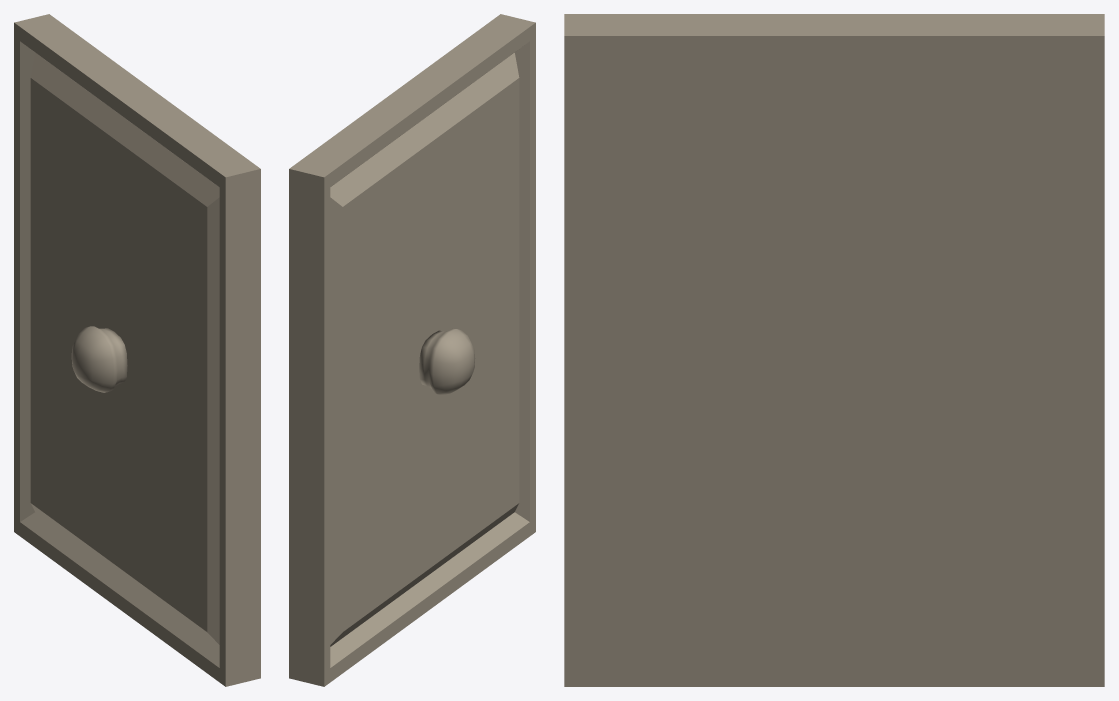
Rendered from Cupboard_02_Door_R_Lod0.fbx.
3 renders of one model, left to right at view 1: azimuth 30°, elevation 25°; view 2: azimuth 150°, elevation 25°; view 3: azimuth 270°, elevation 25°, orthographic. The views are drawn at different scales.
Parts seen in each view (by area): view 1: Cupboard_02_Door_R_Lod0; view 2: Cupboard_02_Door_R_Lod0; view 3: Cupboard_02_Door_R_Lod0.
Boxes of the visible parts, x1,y1,x2,y2 form: Cupboard_02_Door_R_Lod0: (14, 14, 260, 686); Cupboard_02_Door_R_Lod0: (289, 14, 535, 686); Cupboard_02_Door_R_Lod0: (564, 14, 1104, 686).
Bounding box in the file's own units: 6.59 × 41.96 × 31.58.
